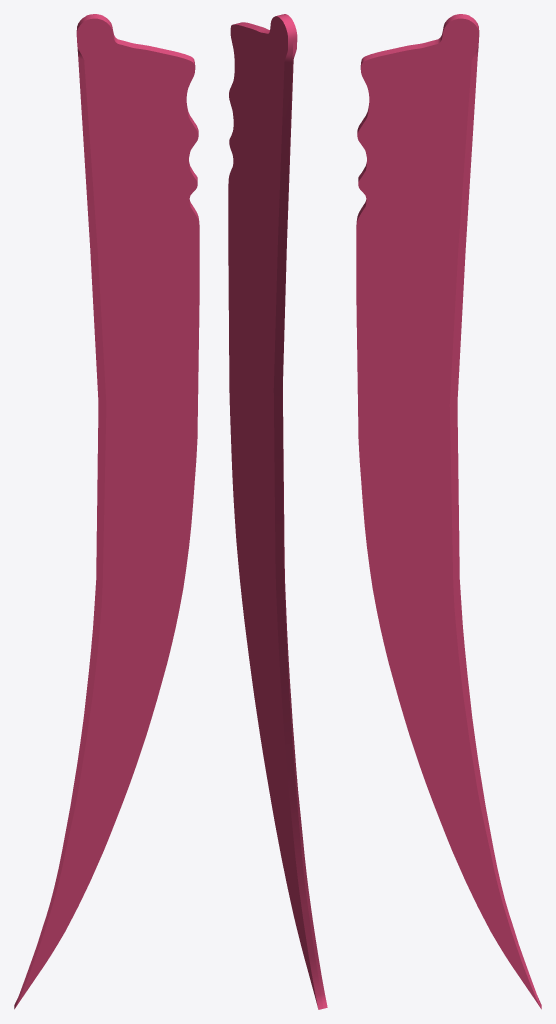
The model's file is claw1.obj.
The picture shows the model from 3 angles, left to right: view 1: azimuth 90°, elevation 25°; view 2: azimuth 210°, elevation 25°; view 3: azimuth 270°, elevation 25°; orthographic projection. The views are drawn at different scales.
Visible parts, largest first — view 1: Claw1; view 2: Claw1; view 3: Claw1.
Boxes of the visible parts, x1,y1,x2,y2 form: Claw1: [14, 14, 199, 1009]; Claw1: [228, 14, 327, 1009]; Claw1: [356, 14, 541, 1009].
Bounding box in the file's own units: 0.0048 × 0.4817 × 0.0817.
